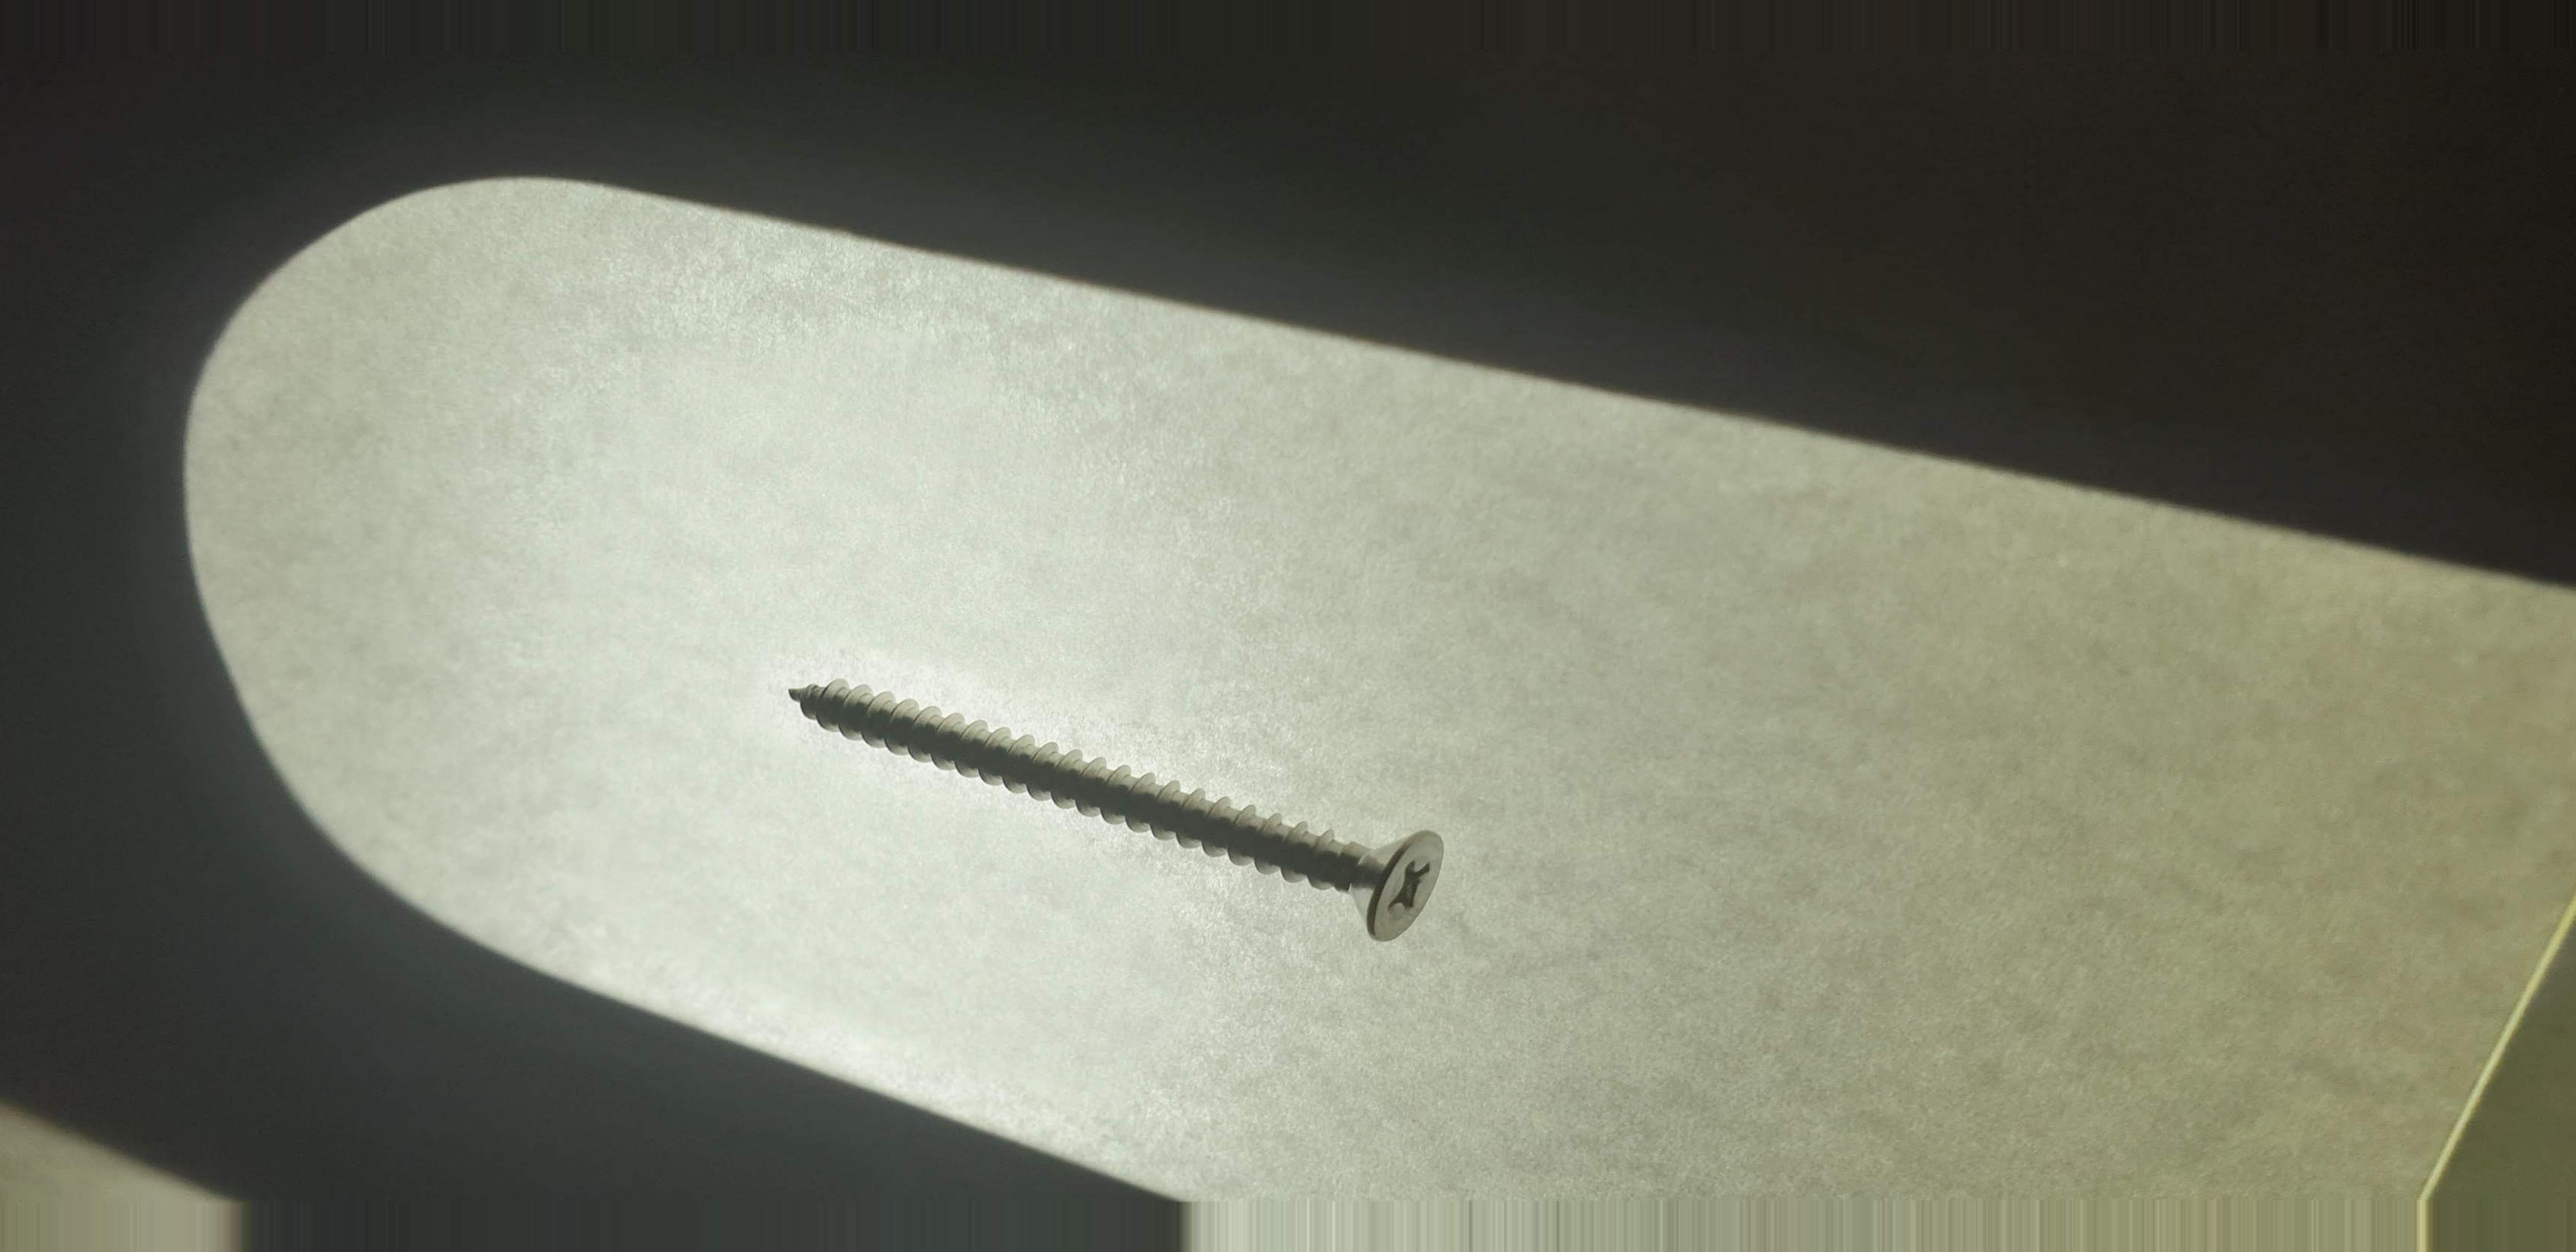S001: (769, 647, 1456, 951)
